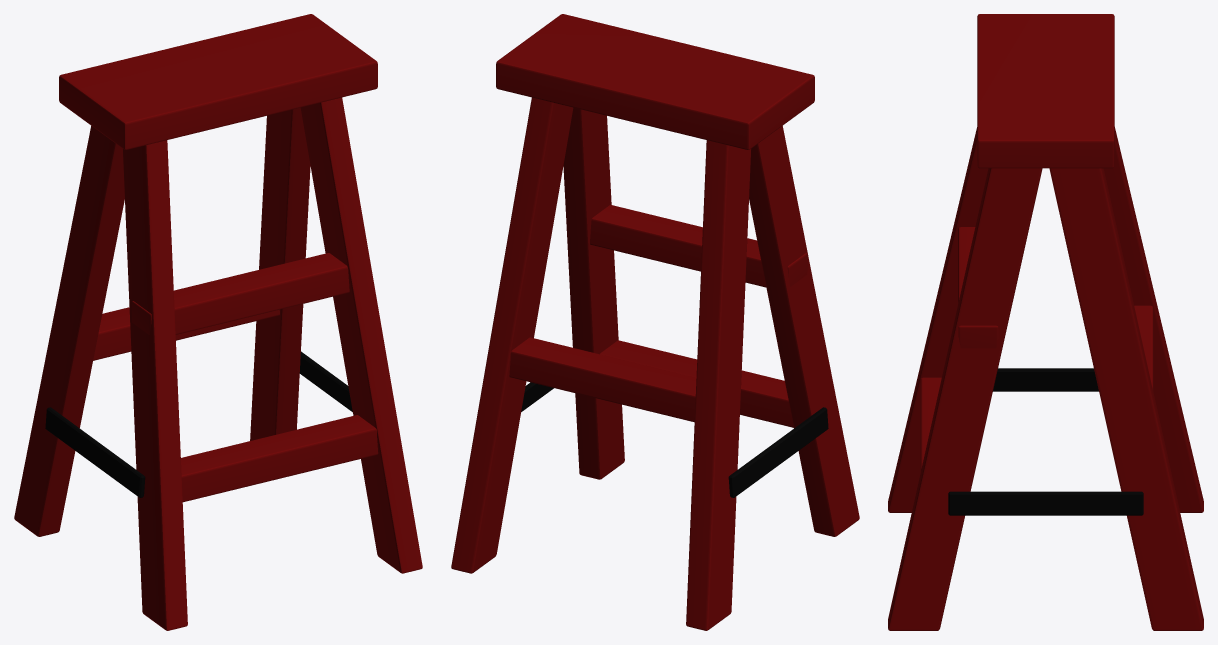
Rendered from stepladder.fbx.
The picture shows the model from 3 angles, left to right: view 1: azimuth 30°, elevation 25°; view 2: azimuth 150°, elevation 25°; view 3: azimuth 270°, elevation 25°; orthographic projection. The views are drawn at different scales.
Visible parts, largest first — view 1: stepladder, rails; view 2: stepladder, rails; view 3: stepladder, rails.
Part boxes in pixels (box(x1,y1,x2,y2)): stepladder: box(14, 14, 422, 630); rails: box(45, 351, 352, 497); stepladder: box(451, 14, 859, 630); rails: box(521, 382, 828, 497); stepladder: box(888, 14, 1203, 630); rails: box(948, 368, 1143, 515).
Bounding box in the file's own units: 0.1641 × 0.2909 × 0.1697.
